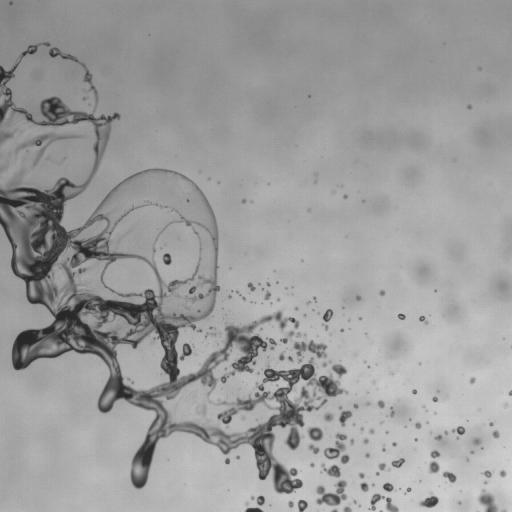droplet: (323, 432, 349, 464), (418, 491, 439, 508), (320, 462, 341, 477), (338, 405, 352, 427), (306, 426, 323, 441), (0, 129, 16, 143), (451, 426, 465, 439), (442, 470, 456, 482), (391, 458, 405, 468), (382, 482, 396, 492), (308, 443, 319, 454), (37, 45, 48, 56), (11, 95, 22, 106), (63, 98, 74, 109), (66, 100, 77, 111), (81, 120, 92, 131), (63, 122, 74, 133), (51, 124, 62, 135), (45, 143, 56, 154), (59, 217, 70, 228), (252, 288, 263, 299), (406, 311, 417, 322), (43, 314, 54, 325), (233, 316, 244, 327), (271, 328, 282, 339), (301, 350, 312, 361), (2, 352, 13, 363), (196, 352, 207, 363), (254, 359, 265, 370), (272, 360, 283, 371), (280, 360, 291, 371), (177, 365, 188, 376), (313, 366, 324, 377), (99, 369, 110, 380), (336, 375, 347, 386), (115, 397, 126, 408), (314, 417, 325, 428), (341, 423, 352, 434), (271, 424, 282, 435), (297, 425, 308, 436), (278, 426, 289, 437), (170, 429, 181, 440), (186, 432, 197, 443), (299, 434, 310, 445), (132, 437, 143, 448), (317, 438, 328, 449), (154, 439, 165, 450), (353, 441, 364, 452), (366, 441, 377, 452), (243, 444, 254, 455), (151, 448, 162, 459), (272, 451, 283, 462), (314, 452, 325, 463), (379, 471, 390, 482), (325, 482, 336, 493), (484, 483, 495, 494), (291, 488, 302, 499), (305, 492, 316, 503), (492, 496, 503, 507), (297, 499, 307, 511), (378, 462, 391, 471), (162, 253, 171, 265), (481, 470, 494, 478), (323, 412, 333, 421), (320, 503, 331, 511), (5, 78, 14, 87), (44, 124, 53, 133), (62, 200, 71, 209), (298, 303, 307, 312), (267, 305, 276, 314), (269, 318, 278, 327), (218, 332, 227, 341), (275, 342, 284, 351), (174, 344, 183, 353), (86, 352, 95, 361), (312, 357, 321, 366), (175, 359, 184, 368), (190, 364, 199, 373), (319, 405, 328, 414), (146, 409, 155, 418), (300, 409, 309, 418), (374, 425, 383, 434), (354, 433, 363, 442), (432, 441, 441, 450), (227, 449, 236, 458), (332, 456, 341, 465), (324, 458, 333, 467), (282, 461, 291, 470), (364, 489, 373, 498), (376, 499, 385, 508), (263, 290, 271, 300), (360, 482, 368, 492), (247, 282, 255, 291), (419, 316, 428, 324), (376, 400, 385, 408), (472, 437, 481, 445), (475, 505, 486, 511), (287, 500, 295, 508), (413, 422, 421, 429), (492, 430, 499, 438), (434, 434, 442, 441), (0, 93, 5, 104), (0, 178, 5, 189), (0, 206, 5, 217), (499, 470, 506, 477), (60, 47, 67, 54), (3, 64, 10, 71), (84, 107, 91, 114), (110, 118, 117, 125), (6, 125, 13, 132), (108, 131, 115, 138), (89, 135, 96, 142), (4, 137, 11, 144), (53, 139, 60, 146), (18, 148, 25, 155), (88, 150, 95, 157), (24, 159, 31, 166), (98, 160, 105, 167), (85, 184, 92, 191), (81, 189, 88, 196), (58, 219, 65, 226), (18, 278, 25, 285), (35, 302, 42, 309), (213, 302, 220, 309), (303, 305, 310, 312), (281, 311, 288, 318), (253, 313, 260, 320), (350, 314, 357, 321), (262, 321, 269, 328), (22, 323, 29, 330), (14, 327, 21, 334), (251, 328, 258, 335), (10, 332, 17, 339), (313, 337, 320, 344), (286, 340, 293, 347), (289, 348, 296, 355), (301, 357, 308, 364), (332, 358, 339, 365), (30, 359, 37, 366), (6, 360, 13, 367), (340, 360, 347, 367), (294, 362, 301, 369), (18, 367, 25, 374), (98, 381, 105, 388), (326, 395, 333, 402), (370, 398, 377, 405), (382, 405, 389, 412), (136, 406, 143, 413), (333, 411, 340, 418), (344, 417, 351, 424), (380, 423, 387, 430), (283, 424, 290, 431), (338, 426, 345, 433), (413, 428, 420, 435), (362, 430, 369, 437), (354, 437, 361, 444), (342, 438, 349, 445), (312, 439, 319, 446), (385, 442, 392, 449), (362, 444, 369, 451), (472, 444, 479, 451), (212, 445, 219, 452), (248, 447, 255, 454), (434, 456, 441, 463), (384, 460, 391, 467), (314, 463, 321, 470), (423, 463, 430, 470), (437, 466, 444, 473), (252, 468, 259, 475), (491, 471, 498, 478), (295, 472, 302, 479), (338, 473, 345, 480), (145, 477, 152, 484), (126, 481, 133, 488), (311, 481, 318, 488), (342, 486, 349, 493), (381, 489, 388, 496), (474, 489, 481, 496), (390, 498, 397, 505), (339, 499, 346, 506), (250, 501, 257, 508), (349, 503, 356, 510), (397, 313, 405, 319), (506, 468, 511, 477), (290, 506, 299, 511), (350, 506, 359, 511), (425, 506, 434, 511), (469, 377, 475, 384), (367, 428, 374, 434), (379, 289, 385, 295), (355, 295, 361, 301), (432, 396, 438, 402), (363, 438, 369, 444), (358, 472, 364, 478), (45, 156, 52, 161), (342, 194, 347, 200), (353, 403, 358, 409), (503, 402, 508, 408), (365, 452, 370, 458), (350, 438, 354, 445), (241, 198, 246, 203), (306, 300, 311, 305), (412, 389, 417, 394), (483, 479, 488, 484), (30, 40, 35, 45), (45, 45, 50, 50), (21, 46, 26, 51), (32, 51, 37, 56), (25, 52, 30, 57), (55, 54, 60, 59), (77, 56, 82, 61), (65, 58, 70, 63), (80, 70, 85, 75), (90, 77, 95, 82), (84, 81, 89, 86), (94, 84, 99, 89), (81, 91, 86, 96), (46, 93, 51, 98), (10, 96, 15, 101), (25, 107, 30, 112), (115, 108, 120, 113), (13, 111, 18, 116), (108, 111, 113, 116), (93, 113, 98, 118), (26, 120, 31, 125), (77, 120, 82, 125), (62, 123, 67, 128), (58, 138, 63, 143), (106, 139, 111, 144), (41, 140, 46, 145), (35, 145, 40, 150), (41, 153, 46, 158), (56, 155, 61, 160), (64, 158, 69, 163), (37, 160, 42, 165), (89, 160, 94, 165), (150, 163, 155, 168), (157, 163, 162, 168), (34, 164, 39, 169), (164, 164, 169, 169), (14, 167, 19, 172), (134, 167, 139, 172), (183, 171, 188, 176), (59, 172, 64, 177), (124, 172, 129, 177), (92, 173, 97, 178), (118, 176, 123, 181), (68, 177, 73, 182), (90, 177, 95, 182), (88, 180, 93, 185), (19, 182, 24, 187), (25, 183, 30, 188), (108, 184, 113, 189), (198, 184, 203, 189), (201, 188, 206, 193), (100, 193, 105, 198), (73, 195, 78, 200), (245, 195, 250, 200), (206, 196, 211, 201), (96, 198, 101, 203), (208, 200, 213, 205), (244, 200, 249, 205), (210, 204, 215, 209), (213, 211, 218, 216), (214, 214, 219, 219), (78, 221, 83, 226), (216, 223, 221, 228), (64, 226, 69, 231), (3, 236, 8, 241), (217, 236, 222, 241), (6, 242, 11, 247), (217, 247, 222, 252), (7, 249, 12, 254), (6, 256, 11, 261), (6, 260, 11, 265), (7, 267, 12, 272), (216, 267, 221, 272), (215, 280, 220, 285), (251, 281, 256, 286), (270, 281, 275, 286), (261, 282, 266, 287), (263, 285, 268, 290), (219, 286, 224, 291), (374, 289, 379, 294), (215, 290, 220, 295), (261, 290, 266, 295), (356, 290, 361, 295), (384, 290, 389, 295), (231, 291, 236, 296), (268, 295, 273, 300), (22, 296, 27, 301), (351, 297, 356, 302), (279, 298, 284, 303), (264, 299, 269, 304), (320, 309, 325, 314), (192, 320, 197, 325), (347, 321, 352, 326), (342, 324, 347, 329), (327, 326, 332, 331), (177, 327, 182, 332), (293, 328, 298, 333), (343, 328, 348, 333), (200, 330, 205, 335), (280, 333, 285, 338), (260, 335, 265, 340), (274, 337, 279, 342), (322, 339, 327, 344), (257, 346, 262, 351), (324, 347, 329, 352), (69, 349, 74, 354), (63, 351, 68, 356), (60, 352, 65, 357), (189, 352, 194, 357), (283, 352, 288, 357), (311, 352, 316, 357), (92, 353, 97, 358), (183, 355, 188, 360), (52, 356, 57, 361), (283, 357, 288, 362), (247, 361, 252, 366), (101, 362, 106, 367), (369, 362, 374, 367), (326, 363, 331, 368), (242, 369, 247, 374), (234, 370, 239, 375), (341, 372, 346, 377), (469, 372, 474, 377), (465, 376, 470, 381), (225, 377, 230, 382), (474, 378, 479, 383), (216, 379, 221, 384), (257, 379, 262, 384), (407, 387, 412, 392), (434, 392, 439, 397), (335, 393, 340, 398), (250, 394, 255, 399), (220, 395, 225, 400), (378, 395, 383, 400), (93, 397, 98, 402), (231, 397, 236, 402), (357, 402, 362, 407), (375, 405, 380, 410), (342, 406, 347, 411), (94, 407, 99, 412), (310, 408, 315, 413), (427, 409, 432, 414), (106, 410, 111, 415), (411, 418, 416, 423), (146, 420, 151, 425), (420, 421, 425, 426), (355, 423, 360, 428), (452, 423, 457, 428), (462, 423, 467, 428), (295, 424, 300, 429), (410, 424, 415, 429), (490, 425, 495, 430), (363, 427, 368, 432), (373, 427, 378, 432), (446, 427, 451, 432), (321, 429, 326, 434), (497, 429, 502, 434), (439, 430, 444, 435), (453, 431, 458, 436), (441, 433, 446, 438), (475, 433, 480, 438), (488, 434, 493, 439), (367, 439, 372, 444), (330, 443, 335, 448), (284, 444, 289, 449), (429, 446, 434, 451), (436, 447, 441, 452), (308, 449, 313, 454), (318, 449, 323, 454), (338, 451, 343, 456), (222, 453, 227, 458), (467, 453, 472, 458), (394, 455, 399, 460), (428, 456, 433, 461), (364, 457, 369, 462), (347, 458, 352, 463), (378, 458, 383, 463), (294, 464, 299, 469), (498, 465, 503, 470), (374, 466, 379, 471), (481, 466, 486, 471), (447, 467, 452, 472), (360, 468, 365, 473), (504, 468, 509, 473), (378, 469, 383, 474), (452, 470, 457, 475), (322, 471, 327, 476), (481, 474, 486, 479), (455, 475, 460, 480), (443, 476, 448, 481), (360, 477, 365, 482), (382, 478, 387, 483), (454, 478, 459, 483), (301, 480, 306, 485), (366, 482, 371, 487), (392, 483, 397, 488), (356, 485, 361, 490), (401, 486, 406, 491), (260, 491, 265, 496), (281, 491, 286, 496), (432, 491, 437, 496), (253, 492, 258, 497), (263, 495, 268, 500), (300, 495, 305, 500), (420, 496, 425, 501), (321, 501, 326, 506), (283, 502, 288, 507), (366, 502, 371, 507), (258, 504, 263, 509), (330, 504, 335, 509), (241, 505, 246, 510), (313, 296, 317, 302), (360, 426, 364, 432), (0, 158, 3, 165), (0, 225, 3, 232), (467, 104, 471, 109), (0, 166, 4, 171), (227, 294, 231, 299), (294, 306, 298, 311), (389, 371, 394, 375), (365, 401, 370, 405), (444, 430, 448, 435), (392, 442, 397, 446), (310, 462, 314, 467), (456, 501, 461, 505), (266, 282, 270, 286), (276, 297, 280, 301), (255, 371, 259, 375), (371, 380, 375, 384), (489, 422, 493, 426), (385, 430, 389, 434), (414, 437, 418, 441), (470, 450, 474, 454), (235, 455, 239, 459), (371, 483, 375, 487), (507, 507, 511, 511), (82, 97, 87, 100), (508, 390, 511, 395), (302, 508, 307, 511), (373, 508, 378, 511), (383, 508, 388, 511), (397, 508, 402, 511), (9, 1, 12, 5), (307, 208, 310, 212), (303, 313, 306, 317), (358, 317, 362, 320), (347, 318, 350, 322), (340, 328, 343, 332), (329, 332, 332, 336), (466, 457, 469, 461), (375, 472, 379, 475), (478, 67, 481, 70), (217, 181, 220, 184), (314, 180, 317, 183), (267, 182, 270, 185), (250, 200, 253, 203), (284, 286, 287, 289), (259, 327, 262, 330), (363, 360, 366, 363), (418, 362, 421, 365), (367, 365, 370, 368), (224, 367, 227, 370), (436, 389, 439, 392), (477, 408, 480, 411), (433, 411, 436, 414), (352, 423, 355, 426), (404, 425, 407, 428), (480, 446, 483, 449), (358, 504, 361, 507), (11, 2, 14, 5), (43, 39, 46, 42), (70, 52, 73, 55), (47, 54, 50, 57), (12, 70, 15, 73), (88, 70, 91, 73), (304, 94, 307, 97), (310, 94, 313, 97), (307, 97, 310, 100), (464, 103, 467, 106), (470, 103, 473, 106), (466, 108, 469, 111), (67, 137, 70, 140), (70, 137, 73, 140), (144, 166, 147, 169), (181, 171, 184, 174), (129, 172, 132, 175), (115, 181, 118, 184), (112, 183, 115, 186), (105, 190, 108, 193), (344, 191, 347, 194), (340, 192, 343, 195), (241, 195, 244, 198), (346, 196, 349, 199), (238, 198, 241, 201), (240, 202, 243, 205), (303, 258, 306, 261), (216, 262, 219, 265), (268, 280, 271, 283), (278, 280, 281, 283), (244, 283, 247, 286), (287, 285, 290, 288), (431, 287, 434, 290), (436, 288, 439, 291), (283, 289, 286, 292), (238, 290, 241, 293), (241, 293, 244, 296), (288, 293, 291, 296), (312, 293, 315, 296), (238, 295, 241, 298), (360, 295, 363, 298), (279, 296, 282, 299), (225, 297, 228, 300), (315, 297, 318, 300), (311, 299, 314, 302), (358, 299, 361, 302), (251, 302, 254, 305), (293, 303, 296, 306), (342, 303, 345, 306), (297, 305, 300, 308), (331, 308, 334, 311), (401, 311, 404, 314), (209, 312, 212, 315), (420, 312, 423, 315), (358, 313, 361, 316), (305, 314, 308, 317), (331, 314, 334, 317), (416, 315, 419, 318), (345, 316, 348, 319), (404, 316, 407, 319), (294, 317, 297, 320), (397, 318, 400, 321), (416, 318, 419, 321), (321, 319, 324, 322), (359, 319, 362, 322), (400, 319, 403, 322), (420, 320, 423, 323), (427, 322, 430, 325), (209, 323, 212, 326), (337, 326, 340, 329), (208, 329, 211, 332), (197, 331, 200, 334), (340, 331, 343, 334), (206, 335, 209, 338), (265, 339, 268, 342), (203, 340, 206, 343), (280, 341, 283, 344), (365, 362, 368, 365), (368, 367, 371, 370), (262, 374, 265, 377), (412, 386, 415, 389), (415, 387, 418, 390), (506, 389, 509, 392), (416, 390, 419, 393), (412, 393, 415, 396), (429, 396, 432, 399), (353, 400, 356, 403), (430, 400, 433, 403), (433, 401, 436, 404), (323, 402, 326, 405), (367, 404, 370, 407), (421, 407, 424, 410), (393, 413, 396, 416), (387, 415, 390, 418), (466, 416, 469, 419), (380, 417, 383, 420), (405, 417, 408, 420), (487, 419, 490, 422), (428, 420, 431, 423), (492, 421, 495, 424), (458, 423, 461, 426), (404, 427, 407, 430), (464, 428, 467, 431), (382, 429, 385, 432), (387, 432, 390, 435), (384, 433, 387, 436), (434, 433, 437, 436), (417, 437, 420, 440), (411, 438, 414, 441), (353, 439, 356, 442), (391, 439, 394, 442), (391, 445, 394, 448), (379, 446, 382, 449), (483, 446, 486, 449), (368, 451, 371, 454), (382, 451, 385, 454), (362, 452, 365, 455), (239, 455, 242, 458), (401, 455, 404, 458), (236, 458, 239, 461), (463, 458, 466, 461), (307, 461, 310, 464), (401, 462, 404, 465), (225, 463, 228, 466), (309, 466, 312, 469), (393, 466, 396, 469), (488, 468, 491, 471), (372, 471, 375, 474), (418, 476, 421, 479), (415, 479, 418, 482), (388, 480, 391, 483), (408, 484, 411, 487), (406, 491, 409, 494), (460, 500, 463, 503), (356, 501, 359, 504), (455, 503, 458, 506), (181, 290, 185, 292), (208, 177, 210, 180), (362, 200, 365, 202), (301, 259, 303, 262), (273, 270, 276, 272), (258, 282, 260, 285), (231, 289, 233, 292), (261, 288, 263, 291), (434, 289, 436, 292), (270, 302, 272, 305), (342, 306, 344, 309), (317, 312, 320, 314), (365, 332, 367, 335), (409, 418, 411, 421), (429, 431, 432, 433), (399, 487, 401, 490), (509, 395, 511, 398), (308, 95, 310, 97), (160, 247, 162, 249), (229, 267, 231, 269), (276, 281, 278, 283), (291, 286, 293, 288), (291, 293, 293, 295), (312, 309, 314, 311), (375, 363, 377, 365), (426, 421, 428, 423), (419, 480, 421, 482), (269, 504, 271, 506), (8, 0, 11, 1), (262, 302, 263, 304), (366, 392, 368, 393), (27, 150, 28, 151), (349, 328, 350, 329), (467, 420, 468, 421)
ligament: (14, 132, 89, 168), (477, 488, 507, 511), (427, 450, 440, 473), (321, 309, 333, 331), (342, 499, 356, 511), (235, 290, 246, 301), (386, 406, 395, 417), (321, 359, 331, 367), (59, 156, 66, 164), (404, 487, 411, 495), (422, 404, 428, 411), (382, 443, 385, 452), (379, 420, 384, 425), (215, 341, 218, 346), (250, 301, 255, 303), (459, 490, 462, 492), (379, 510, 383, 511), (510, 345, 511, 348)
